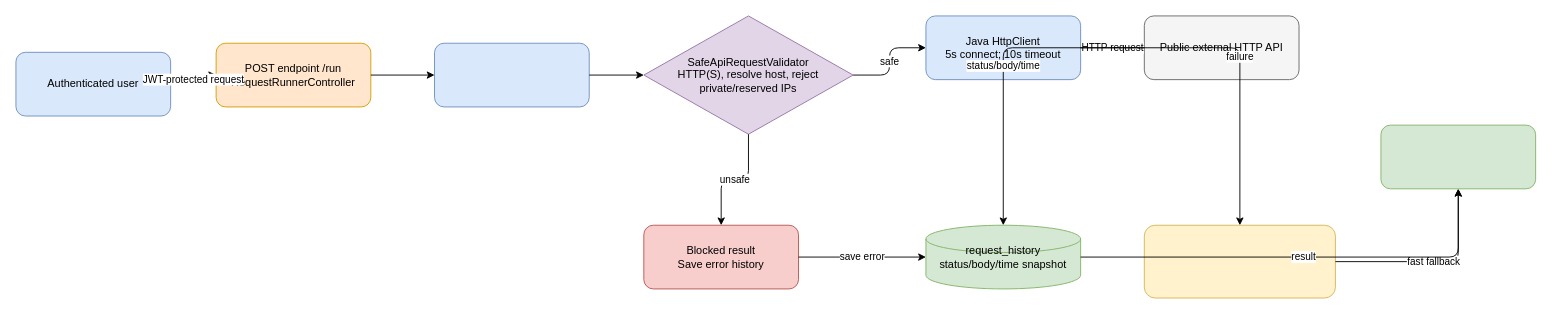
This 1552x314 diagram has some shape labels left out. Each missing label, with the centre of its shape:
Load saved endpoint: the point at 511,74
Resilience4j circuit breaker open/exception fast fallback: the point at 1239,261
RunResultResponse: the point at 1458,156
